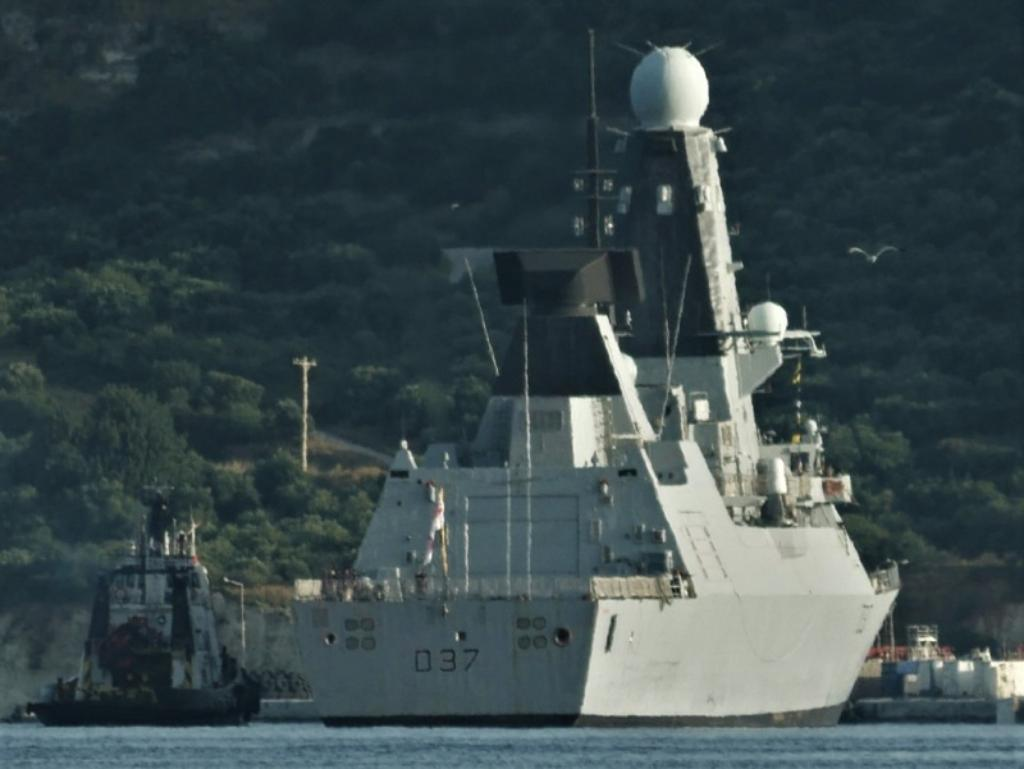Warship: (280, 28, 902, 732)
